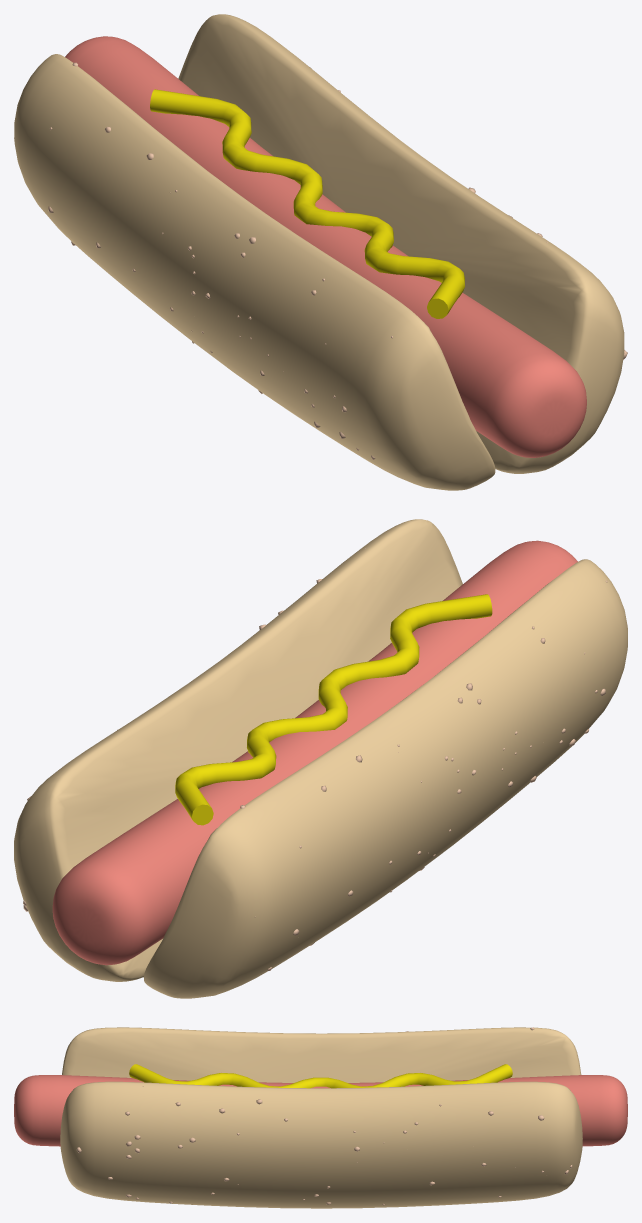
Rendered from low-poly-hotdog.fbx.
3 renders of one model, top to bottom at view 1: azimuth 30°, elevation 25°; view 2: azimuth 150°, elevation 25°; view 3: azimuth 270°, elevation 25°, orthographic. The views are drawn at different scales.
Visible parts, largest first — view 1: Hotdog; view 2: Hotdog; view 3: Hotdog.
Boxes of the visible parts, <box> form: Hotdog: <box>14,14,627,490</box>; Hotdog: <box>14,519,627,998</box>; Hotdog: <box>14,1027,627,1208</box>.
Bounding box in the file's own units: 16.24 × 12.17 × 49.11.
